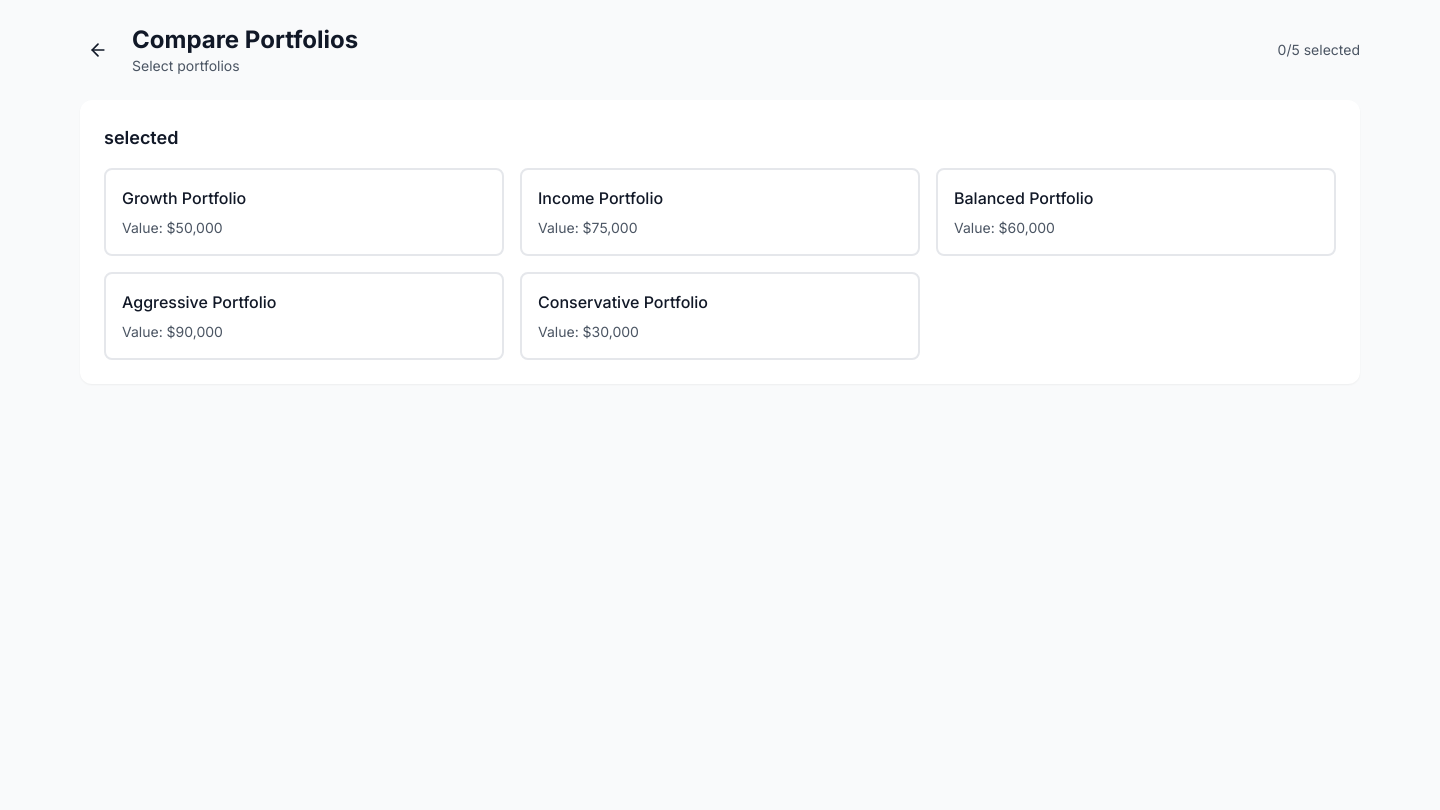
it: Compare › allows selecting up to 5 portfolios and shows correct count
The width and height of the screenshot is (1440, 810).
Click the text "Growth Portfolio". click: (184, 198)
box: x1=122 y1=188 x2=246 y2=208
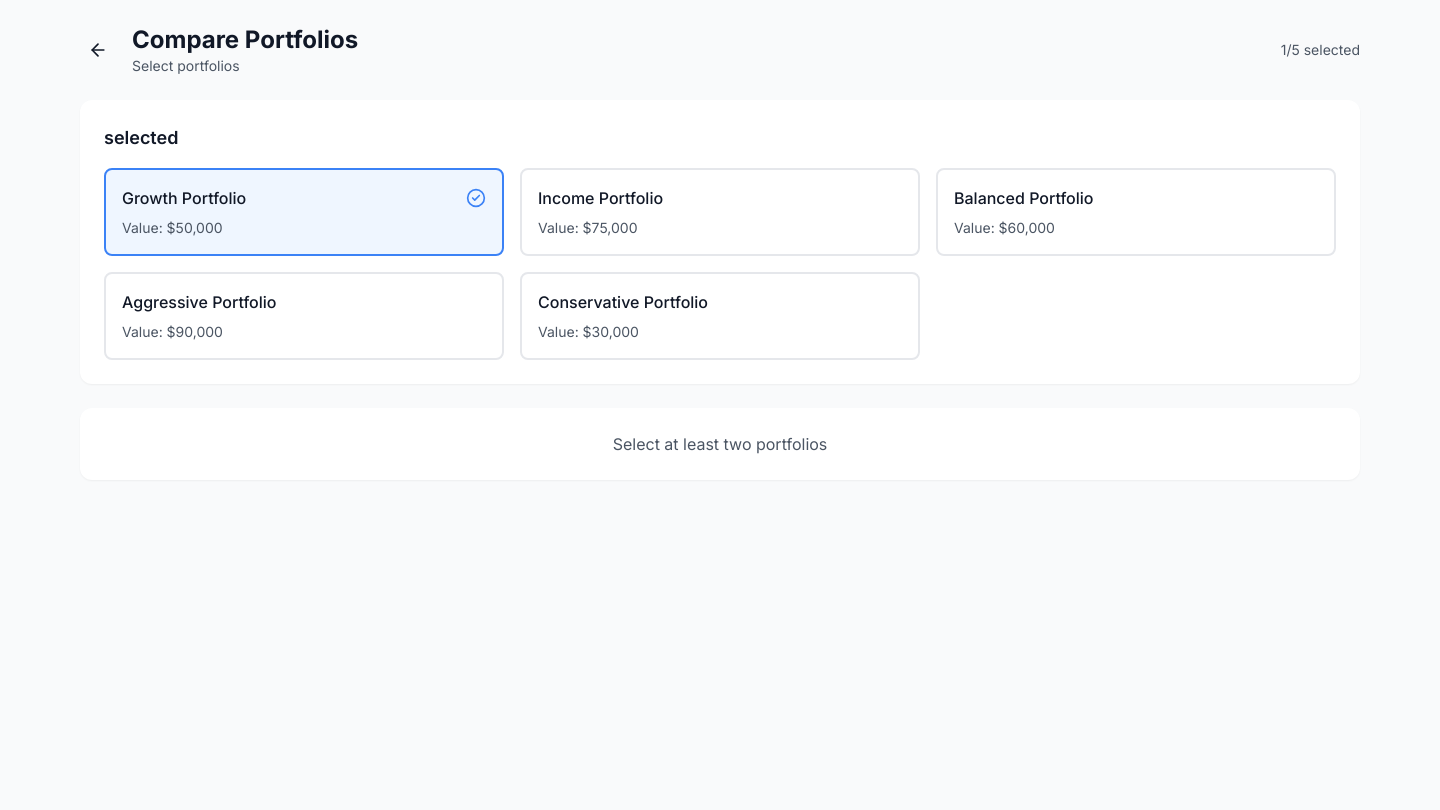
Click the text "Income Portfolio". click: (601, 198)
box: x1=538 y1=188 x2=663 y2=208
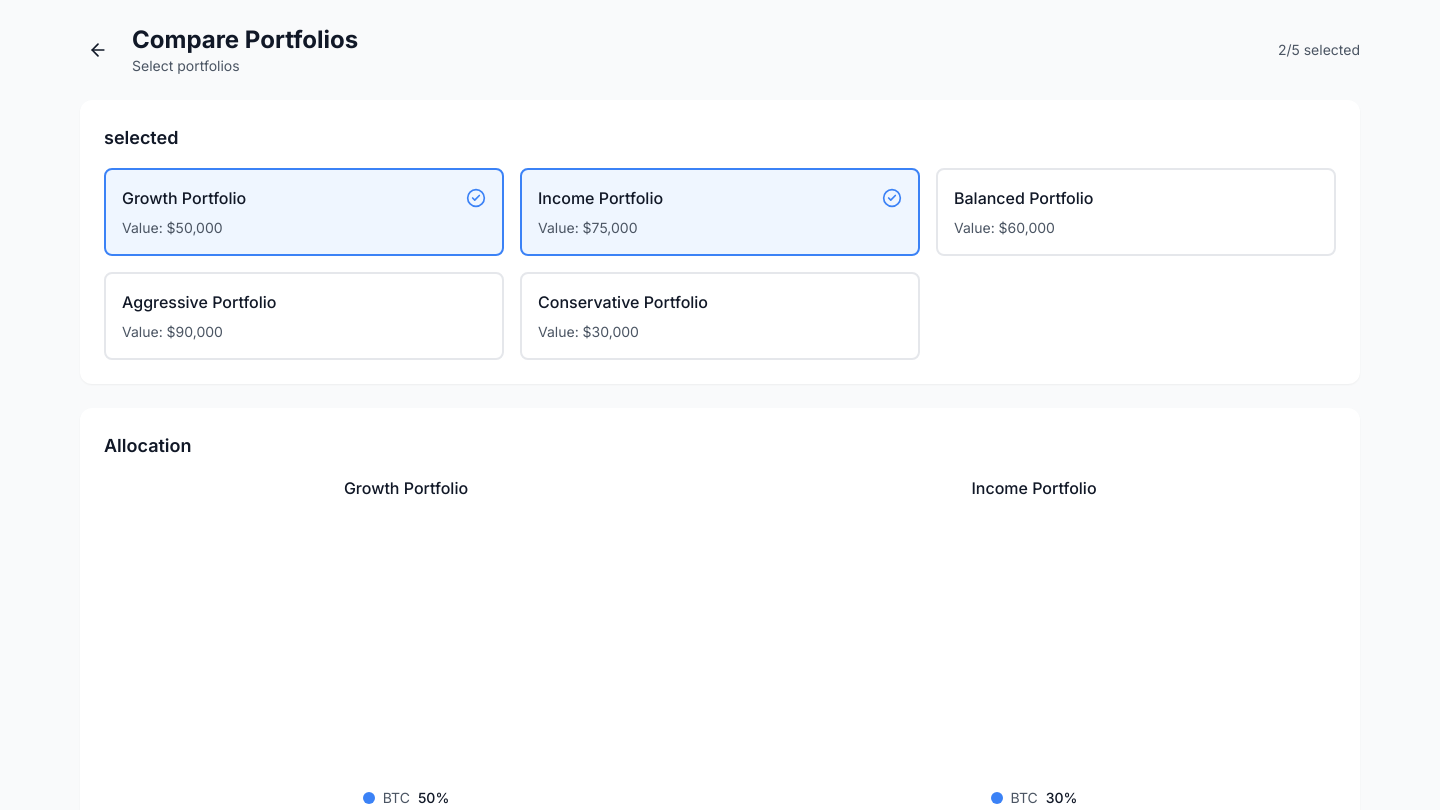
Click the text "Balanced Portfolio". click: (1024, 198)
box: x1=954 y1=188 x2=1094 y2=208
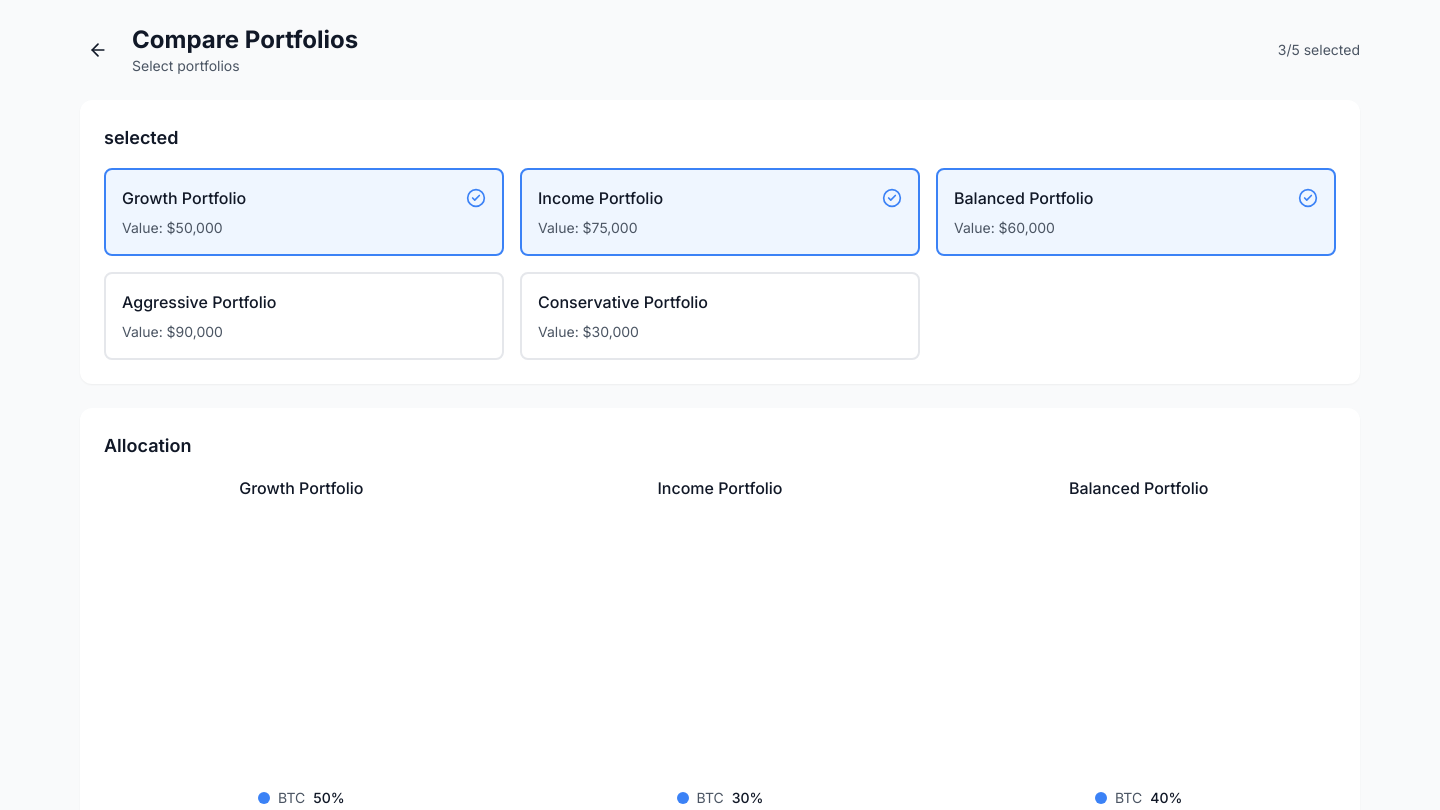
Click the text "Aggressive Portfolio". click: (199, 302)
box: x1=122 y1=292 x2=276 y2=312
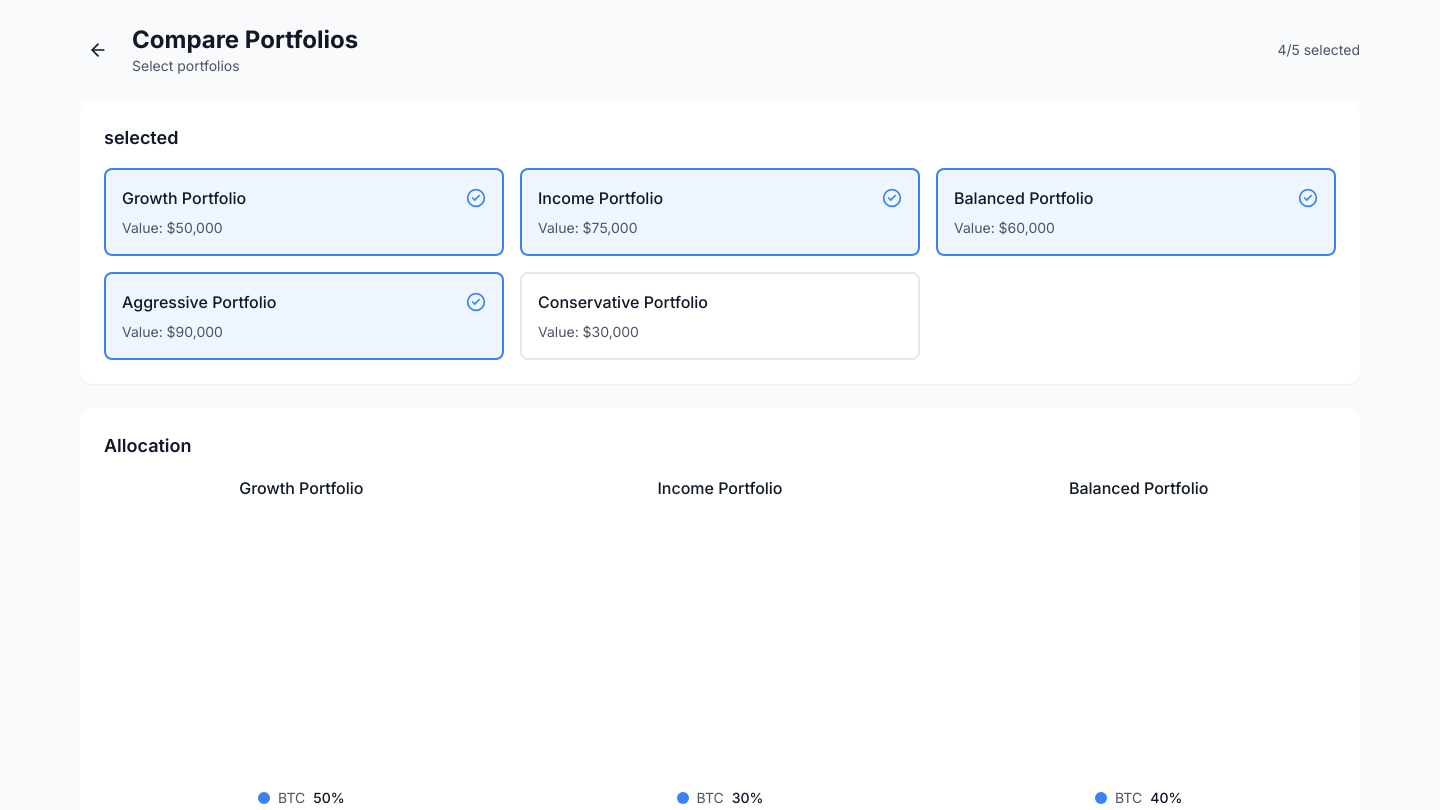
Click the text "Conservative Portfolio". click: (623, 302)
box: x1=538 y1=292 x2=708 y2=312
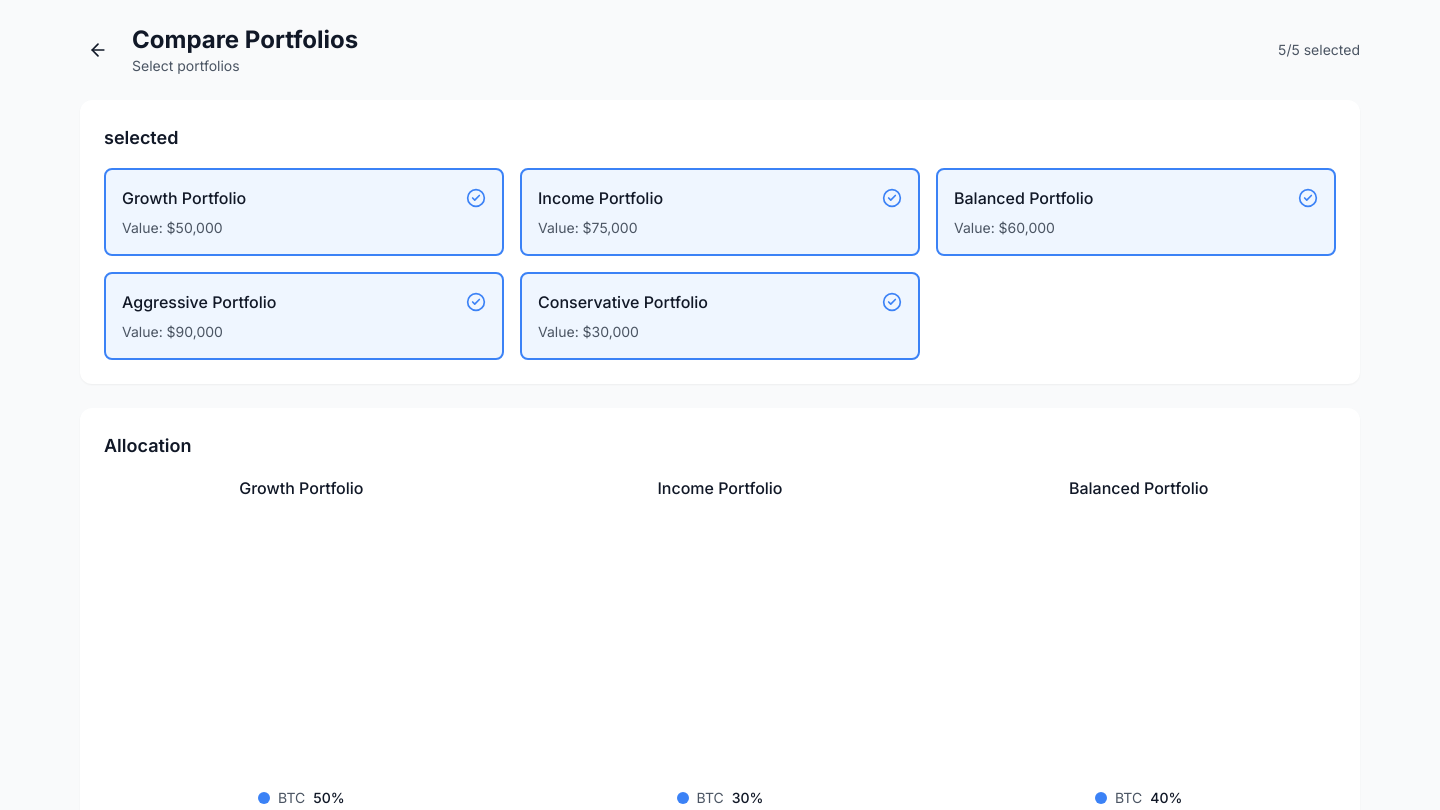
Check: the text "5/5 selected" is shown, box x1=1278 y1=40 x2=1360 y2=60
